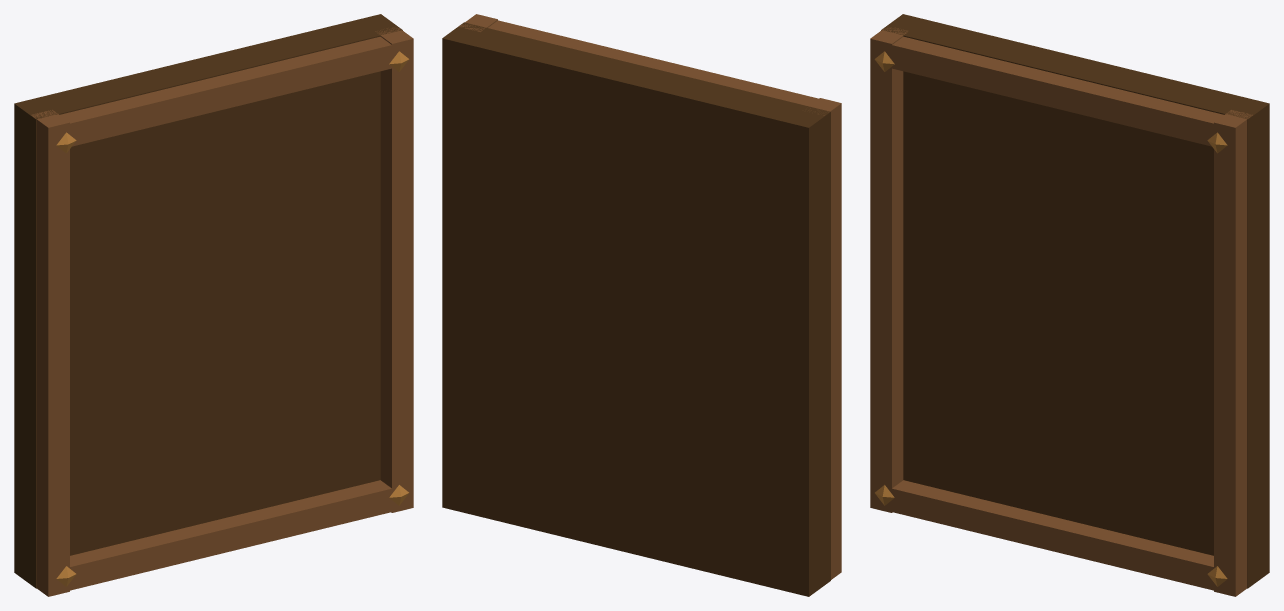
Rendered from mia-photo.glb.
The picture shows the model from 3 angles, left to right: view 1: azimuth 30°, elevation 25°; view 2: azimuth 150°, elevation 25°; view 3: azimuth 330°, elevation 25°; orthographic projection.
Visible parts, largest first — view 1: Body_wood, Body_oak, Body_brass; view 2: Body_wood, Body_oak; view 3: Body_wood, Body_oak, Body_brass.
Boxes of the visible parts, x1=… form: Body_wood: x1=14, y1=14, x2=402, y2=588; Body_oak: x1=31, y1=27, x2=413, y2=596; Body_brass: x1=56, y1=51, x2=409, y2=586; Body_wood: x1=442, y1=22, x2=830, y2=596; Body_oak: x1=459, y1=14, x2=841, y2=579; Body_wood: x1=881, y1=14, x2=1269, y2=588; Body_oak: x1=870, y1=27, x2=1252, y2=596; Body_brass: x1=874, y1=51, x2=1227, y2=586.
Bounding box in the file's own units: 0.54 × 0.66 × 0.0953.
